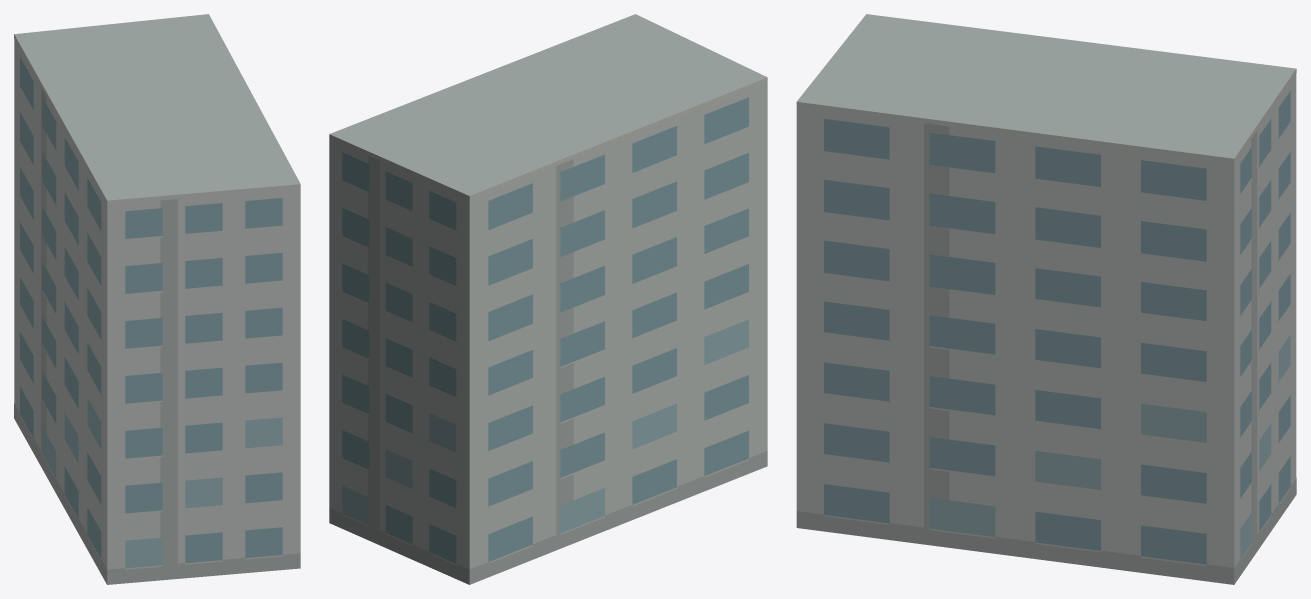
The model's file is survey-upis-32965832.glb.
The picture shows the model from 3 angles, left to right: view 1: azimuth 30°, elevation 25°; view 2: azimuth 150°, elevation 25°; view 3: azimuth 270°, elevation 25°; orthographic projection. The views are drawn at different scales.
Visible parts, largest first — view 1: survey-upis-32965832.tmp; view 2: survey-upis-32965832.tmp; view 3: survey-upis-32965832.tmp.
Boxes of the visible parts, x1,y1,x2,y2 form: survey-upis-32965832.tmp: [14, 14, 300, 584]; survey-upis-32965832.tmp: [329, 14, 767, 584]; survey-upis-32965832.tmp: [796, 14, 1296, 584].
Size of the model in its own units: 15.56 by 21.35 by 22.71.
